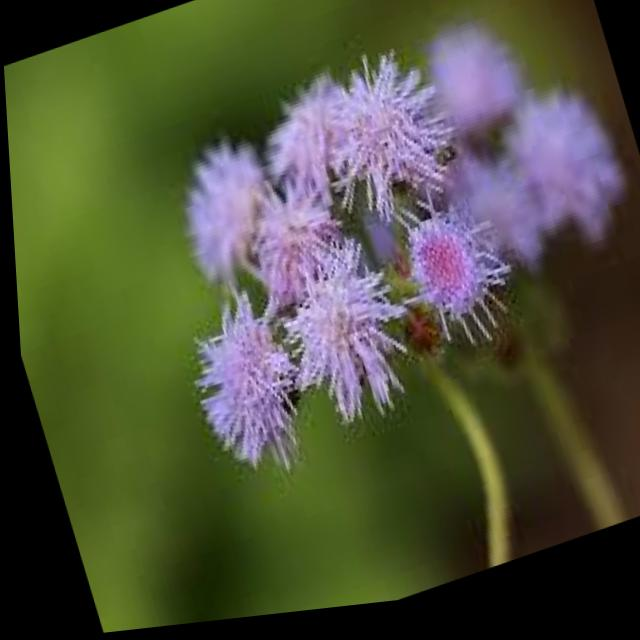Flower: (110, 27, 546, 500)
